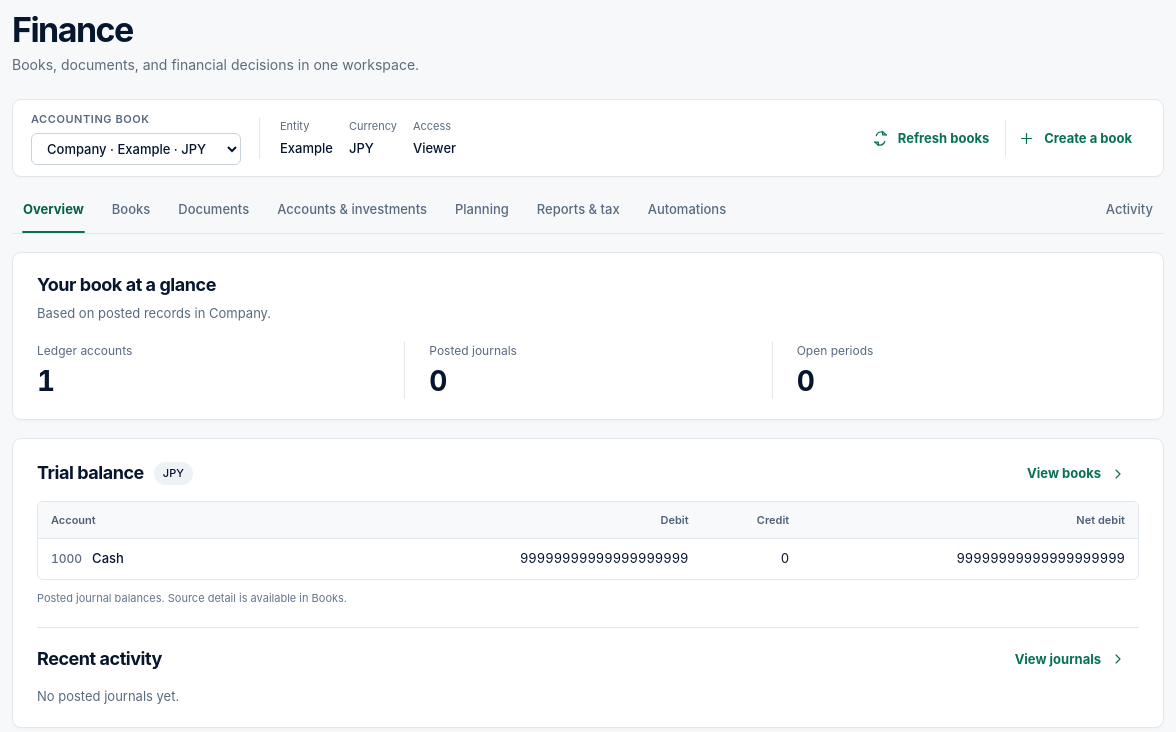
Test case: Books accounting panel › loads accessible books and drills into exact decimal reports
The width and height of the screenshot is (1176, 732).
Select "Company · Example · JPY" in the dropdown labelled "Accounting book". click: (136, 149)
box: [31,133,241,165]
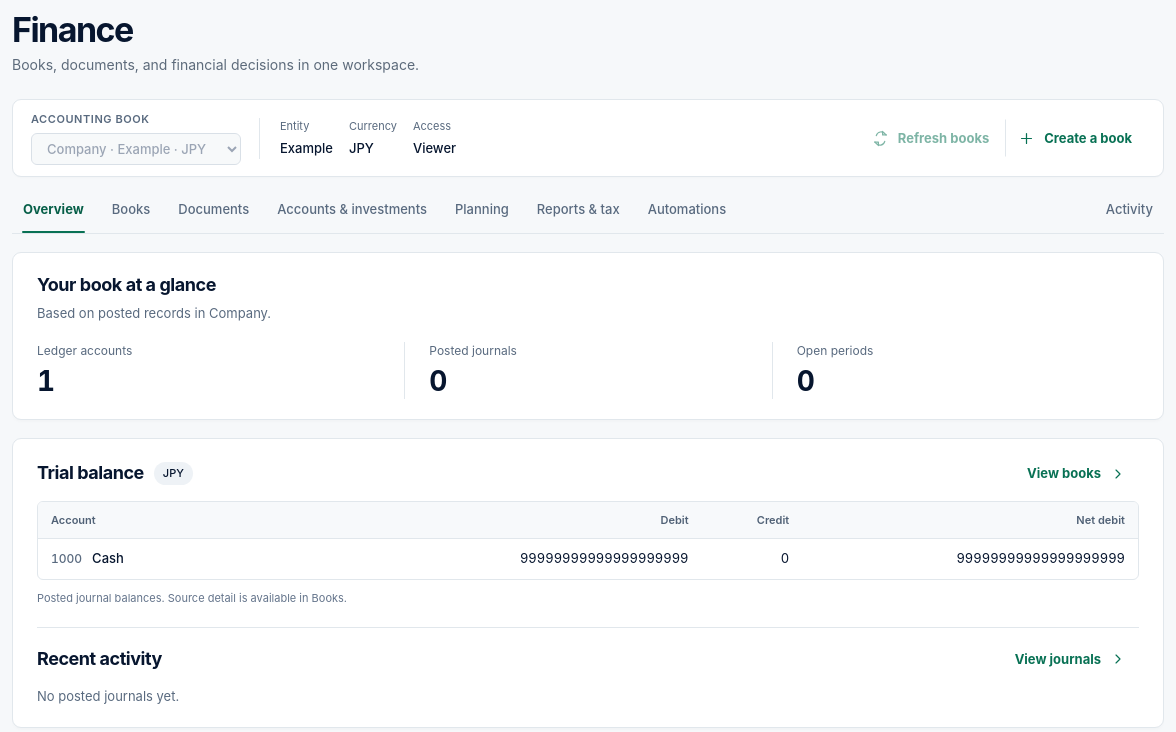
Click the tab "Books". click: (131, 211)
box: [101,189,161,233]
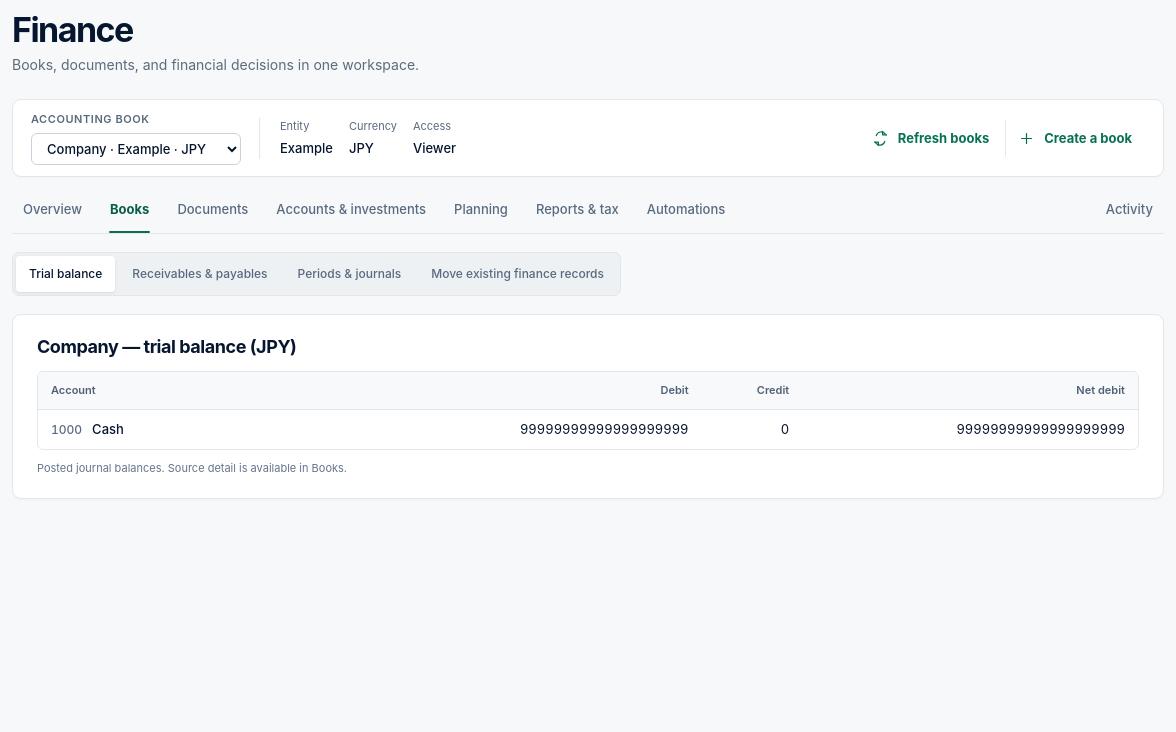
Expected: the text "99999999999999999999" is shown 2 times, [366,409,702,449]; [802,409,1138,449]
Now the heading "Company — trial balance (JPY)" is shown, box [37,335,296,359]
